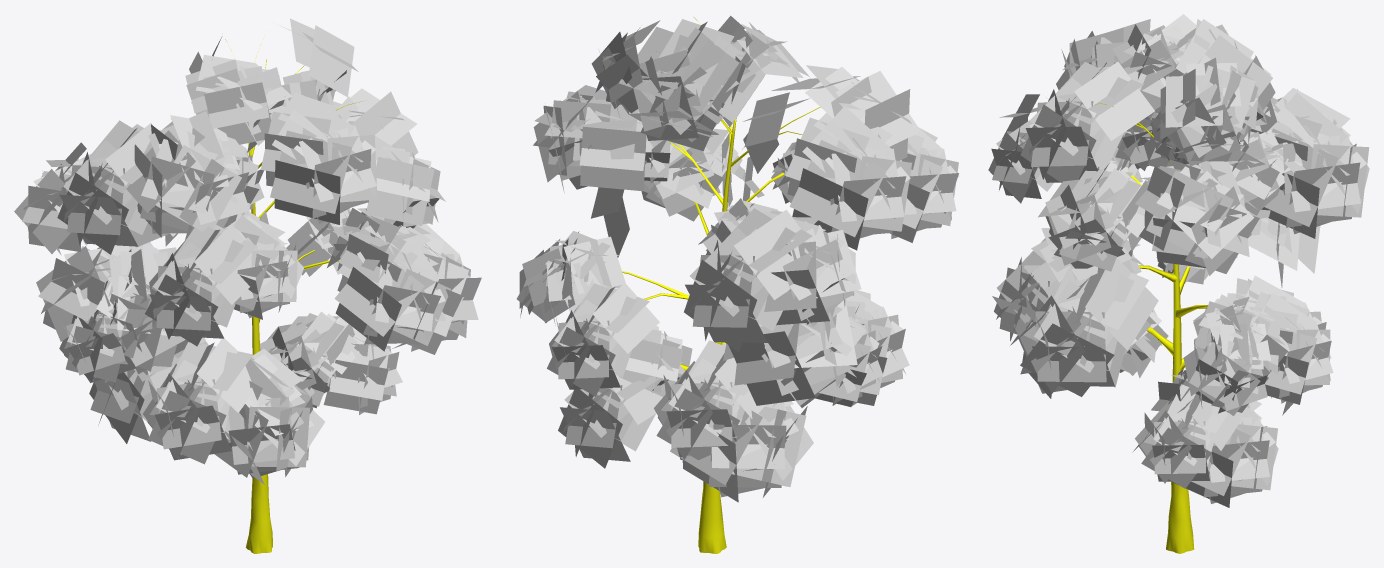
The model's file is Foliage_Trees_Tree_4_Brich_Tree4_High.glb.
3 views of the same model, side by side, from view 1: azimuth 30°, elevation 25°; view 2: azimuth 150°, elevation 25°; view 3: azimuth 270°, elevation 25° (orthographic). The views are drawn at different scales.
Parts seen in each view (by area): view 1: Tree4Dupe; view 2: Tree4Dupe; view 3: Tree4Dupe.
Boxes of the visible parts, left/top/right/bottom form: Tree4Dupe: left=14, top=18, right=481, bottom=553; Tree4Dupe: left=516, top=15, right=959, bottom=553; Tree4Dupe: left=988, top=14, right=1369, bottom=553.
Bounding box in the file's own units: 4.01 × 5.54 × 3.65.
2 materials, 1 textured.
